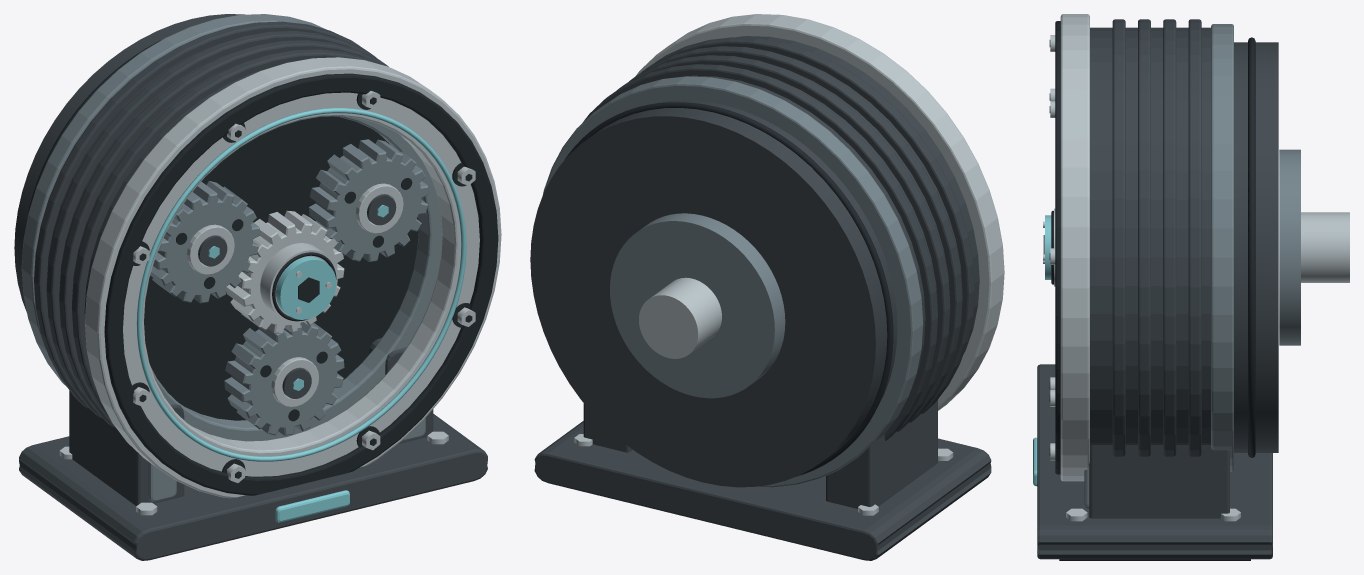
File: orbital-drive.glb
3 views of the same model, side by side, from view 1: azimuth 30°, elevation 25°; view 2: azimuth 150°, elevation 25°; view 3: azimuth 270°, elevation 25° (orthographic). The views are drawn at different scales.
Visible parts, largest first — view 1: Front mounting flange, Carrier plate, Front dark trim, Mounting bed, Inner reaction rim, Planet gear 1 · 18 teeth, Planet gear 3 · 18 teeth, Cooling rib 02, Cooling rib 01, Cooling rib 03, Planet gear 2 · 18 teeth, Rear flange (+17 smaller); view 2: Rear casing, Mounting bed, Rear bearing cover, Rear flange, Front mounting flange, Cooling rib 01, Cooling rib 03, Cooling rib 04, Cooling rib 02, Cradle shoulder L, Main casing shell, Rear input shaft (+2 smaller); view 3: Main casing shell, Mounting bed, Rear casing, Front mounting flange, Rear flange, Cradle shoulder R, Cooling rib 02, Cooling rib 01, Cooling rib 04, Cooling rib 03, Rear bearing cover, Rear input shaft (+3 smaller).
Boxes of the visible parts, left/top/right/bottom form: Front mounting flange: left=85, top=57, right=501, bottom=498; Carrier plate: left=144, top=116, right=418, bottom=420; Front dark trim: left=104, top=73, right=498, bottom=495; Mounting bed: left=19, top=414, right=487, bottom=560; Inner reaction rim: left=150, top=116, right=442, bottom=441; Planet gear 1 · 18 teeth: left=308, top=139, right=428, bottom=261; Planet gear 3 · 18 teeth: left=224, top=322, right=344, bottom=435; Cooling rib 02: left=46, top=31, right=388, bottom=417; Cooling rib 01: left=34, top=21, right=376, bottom=408; Cooling rib 03: left=59, top=40, right=387, bottom=426; Planet gear 2 · 18 teeth: left=150, top=181, right=259, bottom=303; Rear flange: left=21, top=14, right=326, bottom=386; Rear casing: left=530, top=100, right=897, bottom=487; Mounting bed: left=534, top=421, right=991, bottom=560; Rear bearing cover: left=610, top=213, right=785, bottom=398; Rear flange: left=543, top=76, right=923, bottom=487; Front mounting flange: left=635, top=14, right=1004, bottom=410; Cooling rib 01: left=583, top=64, right=937, bottom=440; Cooling rib 03: left=629, top=46, right=962, bottom=422; Cooling rib 04: left=641, top=37, right=974, bottom=413; Cooling rib 02: left=617, top=55, right=950, bottom=431; Cradle shoulder L: left=826, top=400, right=937, bottom=508; Main casing shell: left=688, top=36, right=979, bottom=391; Rear input shaft: left=639, top=277, right=721, bottom=358; Main casing shell: left=1090, top=27, right=1210, bottom=445; Mounting bed: left=1037, top=364, right=1272, bottom=559; Rear casing: left=1234, top=42, right=1278, bottom=452; Front mounting flange: left=1060, top=14, right=1089, bottom=481; Rear flange: left=1211, top=24, right=1233, bottom=471; Cradle shoulder R: left=1089, top=445, right=1229, bottom=518; Cooling rib 02: left=1163, top=19, right=1176, bottom=456; Cooling rib 01: left=1188, top=19, right=1201, bottom=456; Cooling rib 04: left=1112, top=19, right=1125, bottom=456; Cooling rib 03: left=1138, top=19, right=1150, bottom=456; Rear bearing cover: left=1279, top=149, right=1300, bottom=345; Rear input shaft: left=1301, top=212, right=1349, bottom=282.
Bounding box in the file's own units: 3.05 × 3.23 × 2.07.
